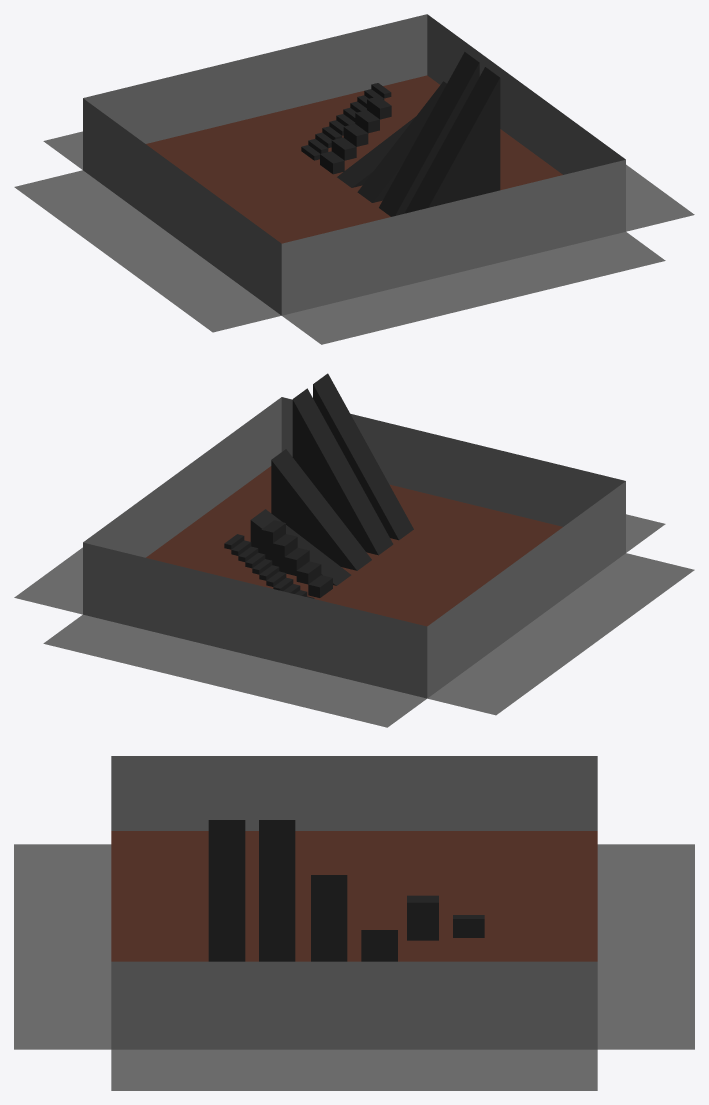
The model's file is Test Scene Models.fbx.
The picture shows the model from 3 angles, top to bottom: view 1: azimuth 30°, elevation 25°; view 2: azimuth 150°, elevation 25°; view 3: azimuth 270°, elevation 25°; orthographic projection. The views are drawn at different scales.
Parts seen in each view (by area): view 1: Cube.001, Cube.003, Floor, Cube, Cube.002, Cube.004, Cube.010, Cube.008, Cube.009, Cube.005, Cube.007; view 2: Cube, Cube.003, Floor, Cube.001, Cube.002, Cube.010, Cube.008, Cube.004, Cube.009, Cube.007, Cube.005; view 3: Cube.002, Floor, Cube.003, Cube, Cube.001, Cube.004, Cube.010, Cube.008, Cube.009, Cube.007, Cube.005.
Part boxes in pixels (x1,y1,x2,y2): Cube.001: (281, 159, 665, 344); Cube.003: (14, 98, 281, 332); Floor: (146, 75, 562, 243); Cube: (43, 14, 427, 169); Cube.002: (427, 14, 694, 231); Cube.004: (404, 67, 500, 213); Cube.010: (379, 52, 479, 216); Cube.008: (357, 81, 446, 202); Cube.009: (320, 96, 391, 174); Cube.005: (301, 83, 391, 160); Cube.007: (337, 117, 415, 187); Cube: (43, 542, 427, 727); Cube.003: (427, 481, 694, 715); Floor: (146, 466, 562, 626); Cube.001: (281, 397, 665, 552); Cube.002: (14, 397, 281, 614); Cube.010: (292, 388, 393, 555); Cube.008: (271, 449, 371, 570); Cube.004: (313, 373, 413, 540); Cube.009: (261, 520, 332, 597); Cube.007: (250, 509, 351, 585); Cube.005: (224, 534, 314, 598); Cube.002: (111, 961, 597, 1090); Floor: (111, 831, 597, 961); Cube.003: (111, 756, 597, 830); Cube: (597, 844, 694, 1049); Cube.001: (14, 844, 111, 1049); Cube.004: (208, 820, 245, 961); Cube.010: (259, 820, 295, 961); Cube.008: (311, 875, 347, 961); Cube.009: (407, 895, 438, 940); Cube.007: (361, 930, 397, 961); Cube.005: (453, 915, 484, 937).
Size of what is drawn, in the model's own units: 2240 by 648 by 2240.
